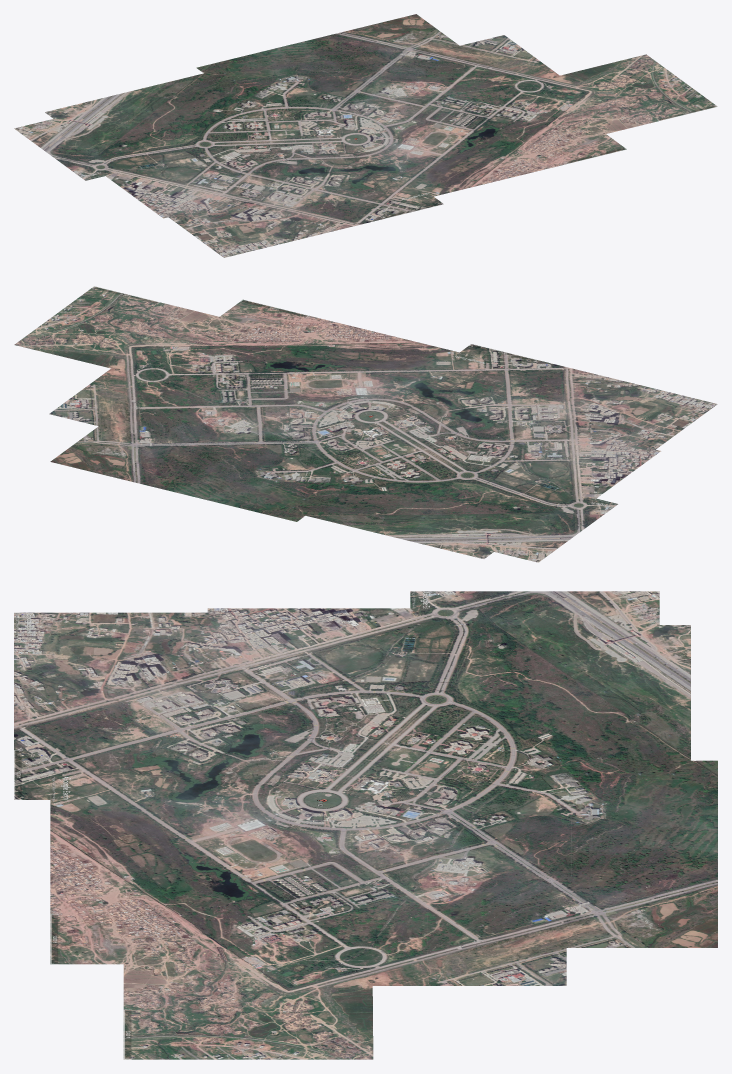
The model's file is Nust1.dae.
3 views of the same model, one above another, from view 1: azimuth 30°, elevation 25°; view 2: azimuth 150°, elevation 25°; view 3: azimuth 270°, elevation 25° (orthographic). The views are drawn at different scales.
Parts seen in each view (by area): view 1: group_0 (×11); view 2: group_0 (×11); view 3: group_0 (×11).
Boxes of the visible parts, x1,y1,x2,y2 form: group_0 (×11): (14,14,717,257); group_0 (×11): (14,286,717,562); group_0 (×11): (14,591,717,1059).
Bounding box in the file's own units: 113892 × 72377 × 5.46e-12.
